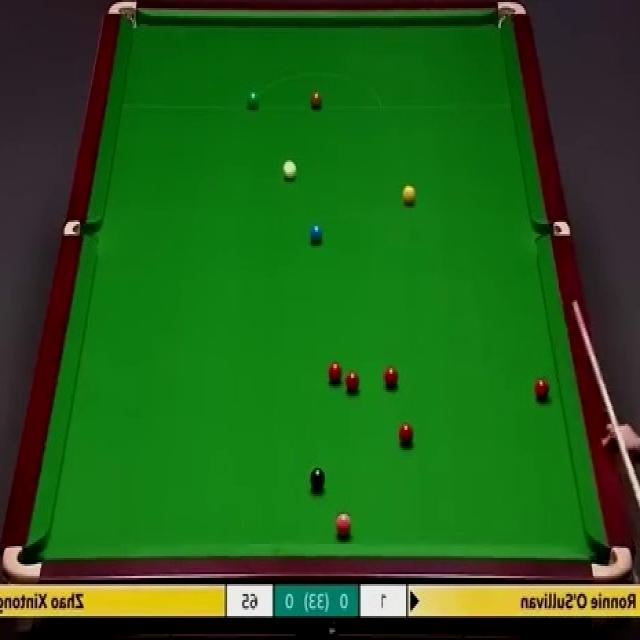pocket: (591, 543, 634, 580), (3, 544, 43, 582), (492, 0, 526, 28), (108, 0, 138, 31), (533, 220, 572, 237), (65, 220, 99, 237)
